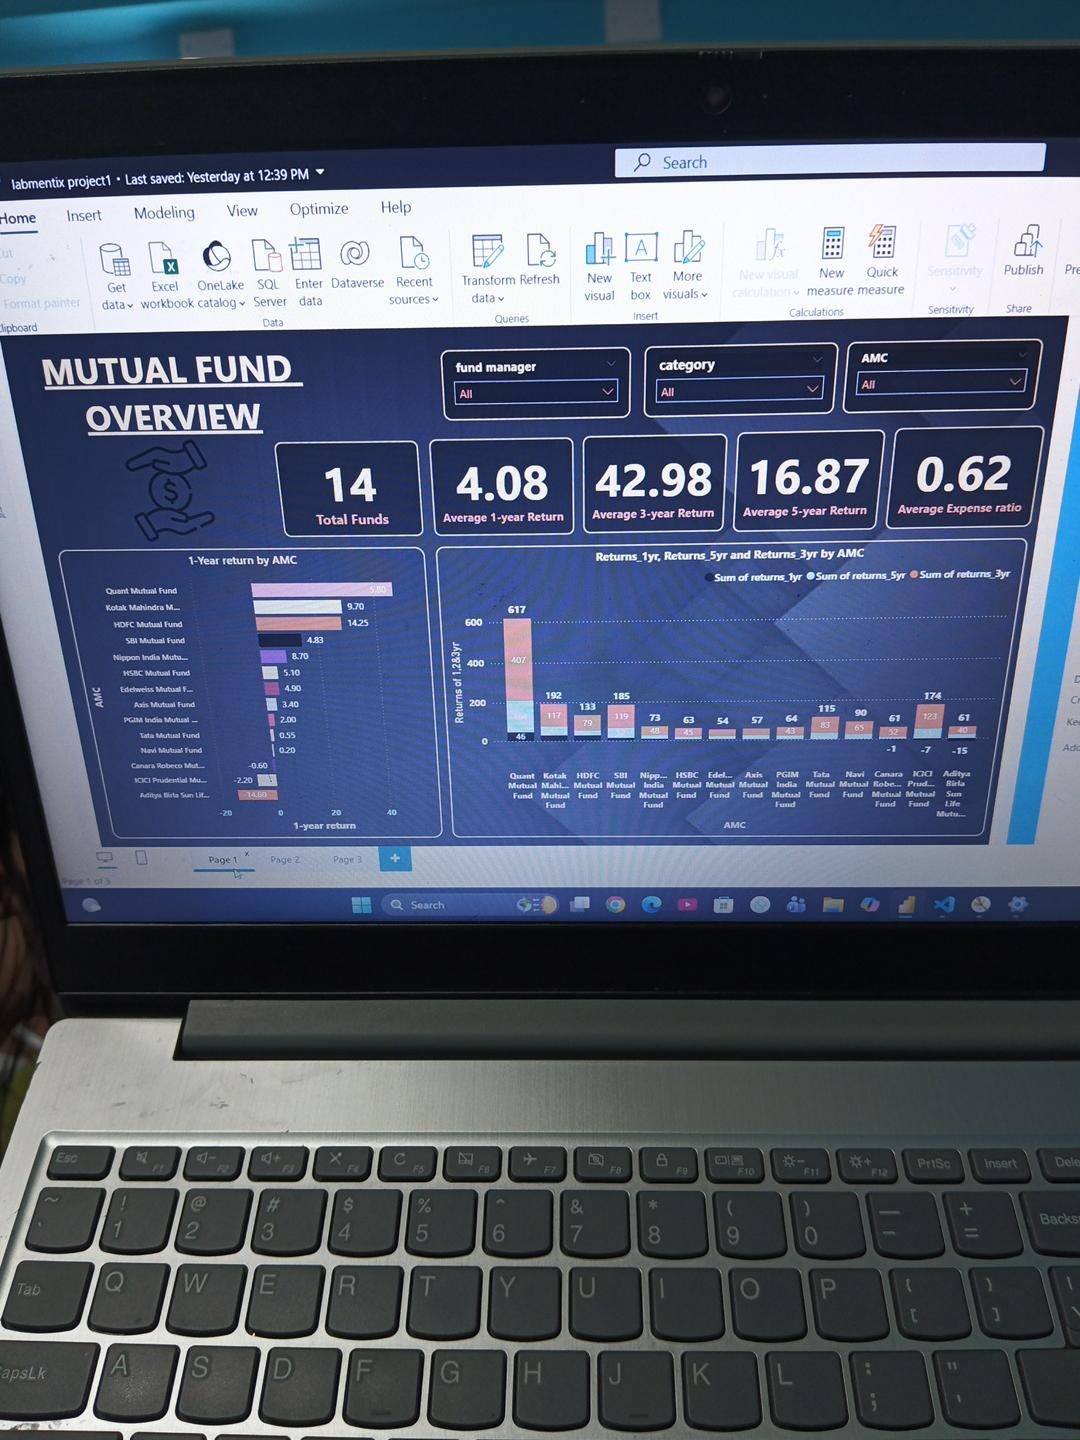

What the dashboard file says about the page in this screenshot:
{"tool":"powerbi","page":{"name":"Page 1","canvas":[1280,720],"ordinal":0},"visuals":[{"type":"card","fields":{"Values":["Count(Sheet1.amc_name)"]},"box":[320.9,133.9,179.8,121.9],"z":0},{"type":"card","fields":{"Values":["Avg(Sheet1.returns_1yr)"]},"box":[515.2,132.7,179.8,123.1],"z":1000},{"type":"card","fields":{"Values":["Avg(Sheet1.returns_3yr)"]},"box":[707,131.5,178.6,123.1],"z":2000},{"type":"card","fields":{"Values":["Avg(Sheet1.returns_5yr)"]},"box":[897.6,130.3,179.8,125.5],"z":3000},{"type":"card","fields":{"Values":["Avg(Sheet1.expense_ratio)"]},"box":[1089.4,129.1,181,126.7],"z":4000},{"type":"clusteredBarChart","title":"1-Year return by AMC","fields":{"Category":["Sheet1.amc_name"],"Y":["Sum(Sheet1.returns_1yr)"]},"box":[20.5,270.2,480.2,435.5],"z":5000},{"type":"columnChart","title":" Returns_1yr, Returns_5yr and Returns_3yr by AMC","fields":{"Category":["Sheet1.amc_name"],"Y":["Sum(Sheet1.returns_1yr)","Sum(Sheet1.returns_5yr)","Sum(Sheet1.returns_3yr)"]},"box":[515.2,270.2,755.2,435.5],"z":6000},{"type":"slicer","fields":{"Values":["Sheet1.fund_manager"]},"box":[535.7,26.5,229.2,83.2],"z":7000},{"type":"slicer","fields":{"Values":["Sheet1.category","Sheet1.sub_category"]},"box":[781.8,26.5,230.4,83.2],"z":8000},{"type":"slicer","fields":{"Values":["Sheet1.amc_name"]},"box":[1023.1,26.5,230.4,83.2],"z":9000},{"type":"textbox","box":[0,8.4,398.1,167.7],"z":10000},{"type":"image","box":[20.5,124.3,320.9,141.2],"z":11000}]}

Visuals, with their boxes on the page's 1280x720 design canvas (x1, y1, x2, y2). These are canvas units, not pixel positions in the 1080x1440 screenshot, which may show the page scaled, cropped or inside an application window:
card - Count(Sheet1.amc_name): 321 134 501 256
card - Avg(Sheet1.returns_1yr): 515 133 695 256
card - Avg(Sheet1.returns_3yr): 707 132 886 255
card - Avg(Sheet1.returns_5yr): 898 130 1077 256
card - Avg(Sheet1.expense_ratio): 1089 129 1270 256
"1-Year return by AMC" clusteredBarChart: 20 270 501 706
" Returns_1yr, Returns_5yr and Returns_3yr by AMC" columnChart: 515 270 1270 706
slicer - Sheet1.fund_manager: 536 26 765 110
slicer - Sheet1.category x Sheet1.sub_category: 782 26 1012 110
slicer - Sheet1.amc_name: 1023 26 1254 110
textbox: 0 8 398 176
image: 20 124 341 266
